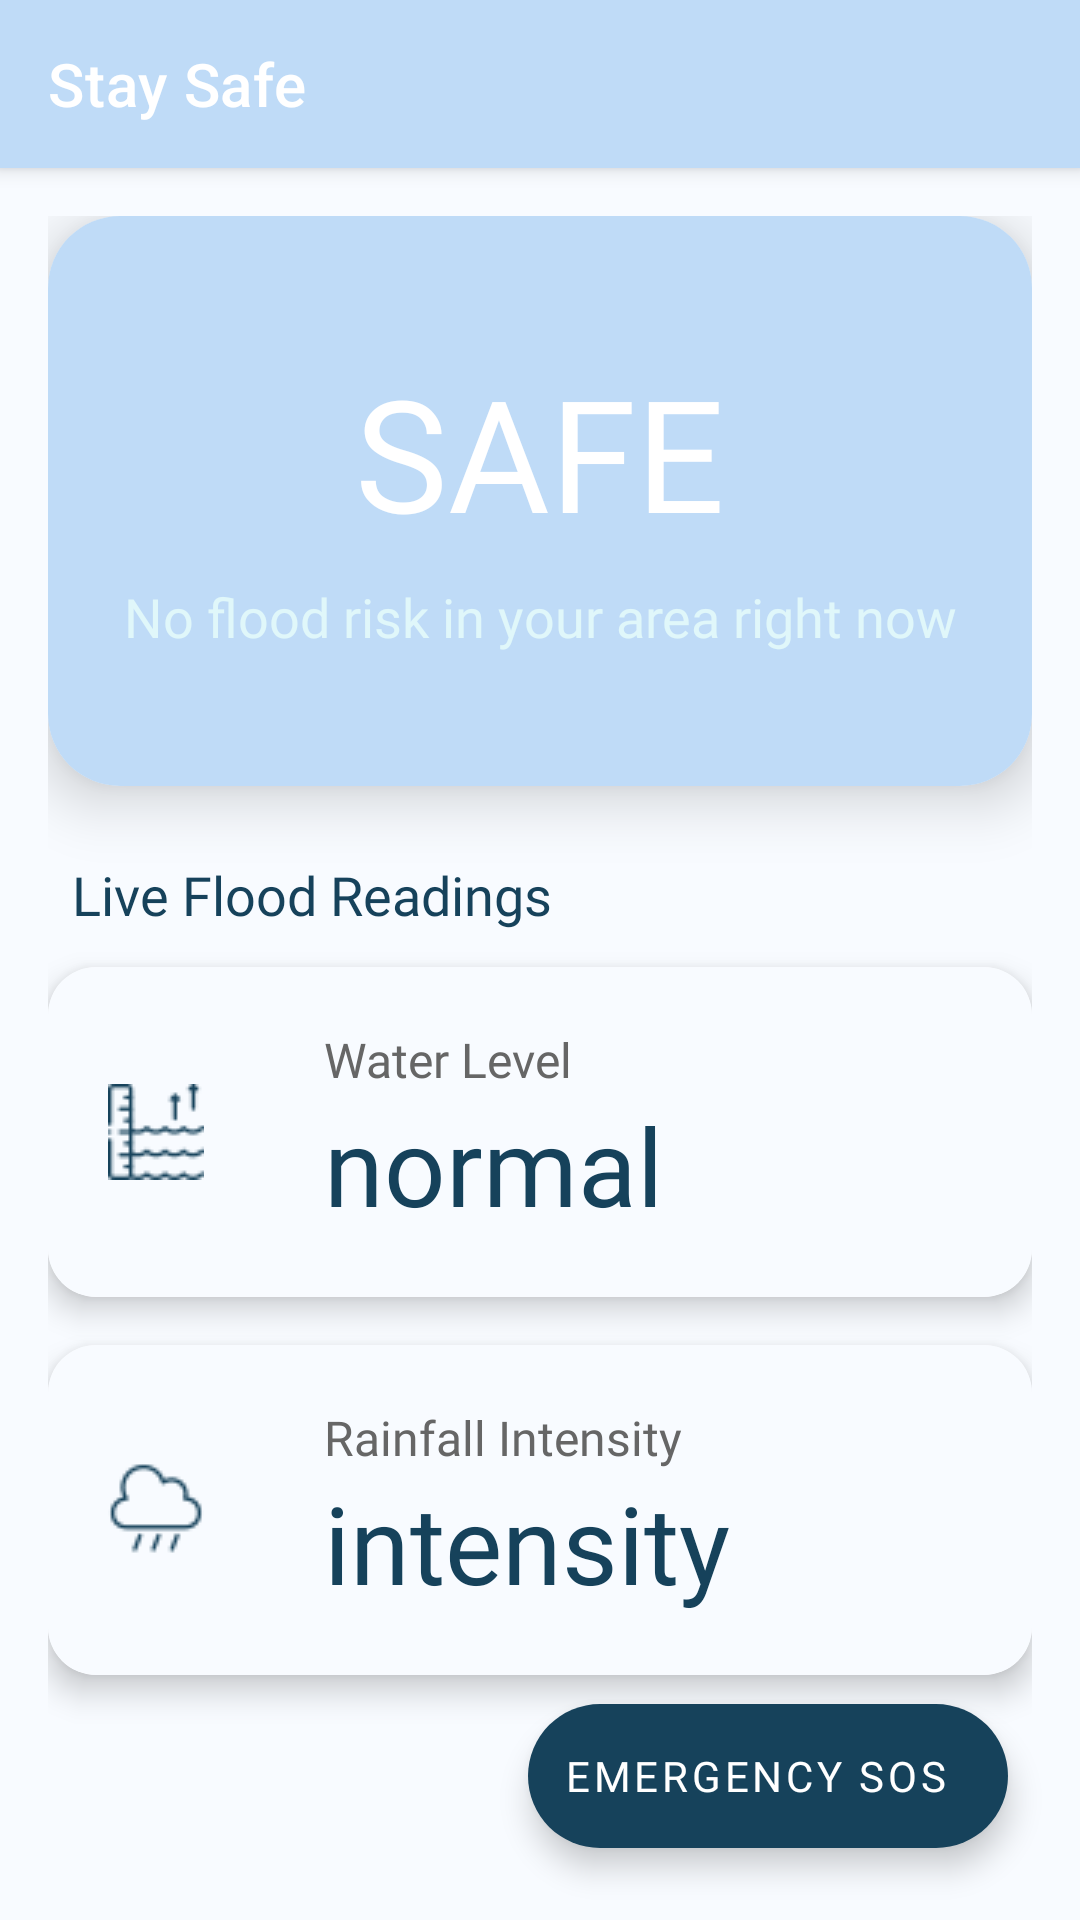

Screen size 1080 x 1920. Icon name, then its box in pixels as (x1, y1, x2, y2):
sea level: (108, 1084, 204, 1180)
